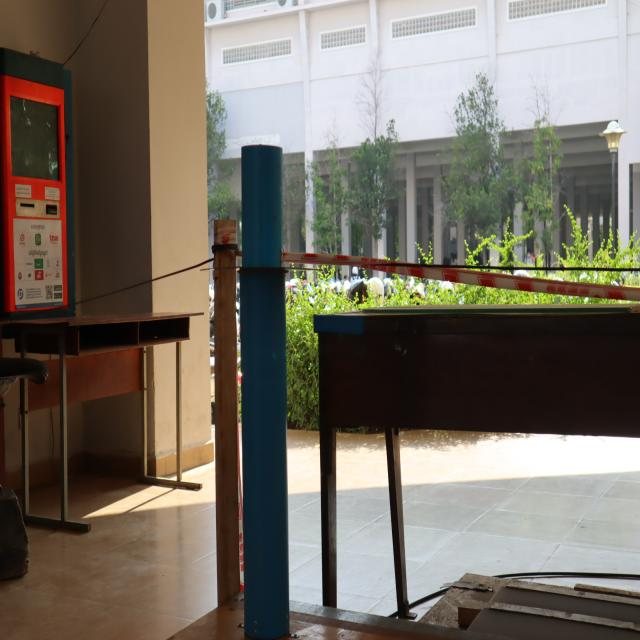pole: (212, 112, 316, 317)
